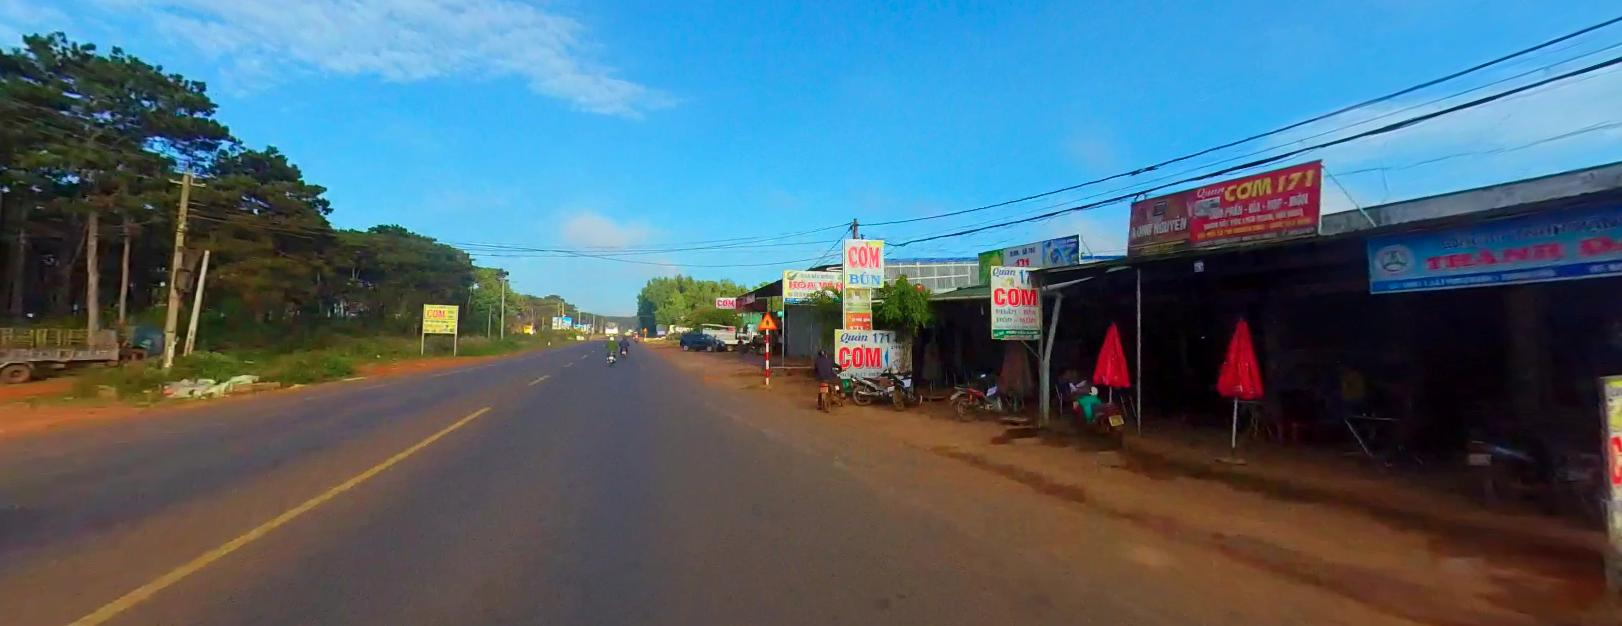Nguy hiem: (757, 311, 776, 327), (642, 325, 647, 330)
